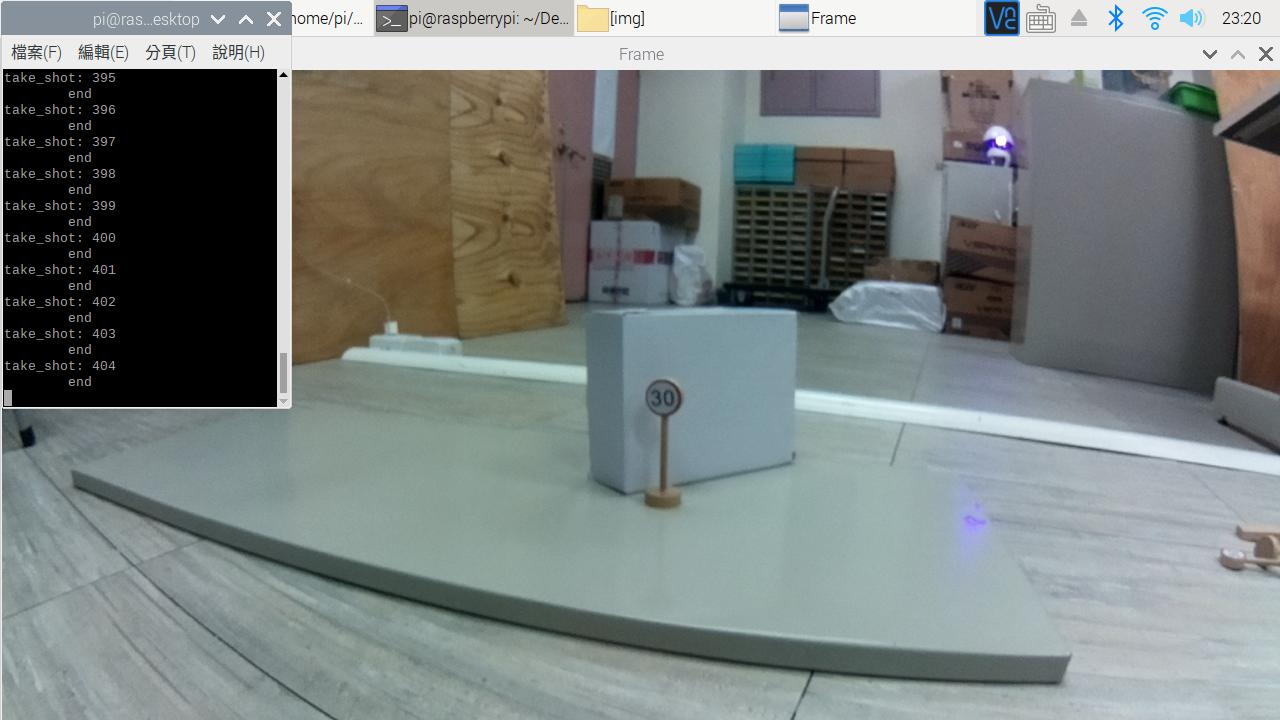Speed30: (627, 362, 708, 438)
